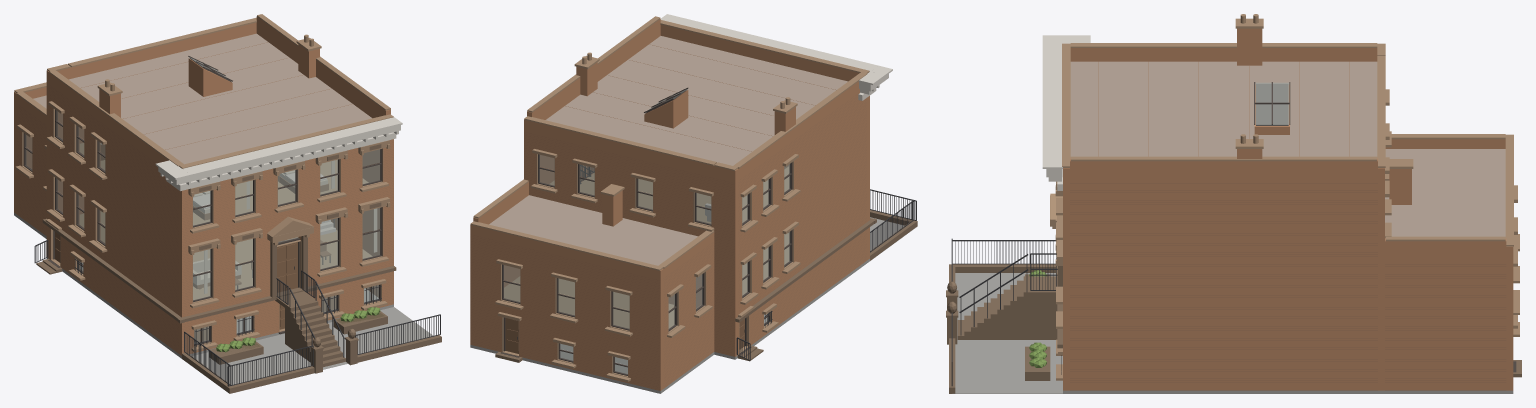
Rendered from pilot-brownstone-end-rowhouse-clay-v006.glb.
The picture shows the model from 3 angles, left to right: view 1: azimuth 30°, elevation 25°; view 2: azimuth 150°, elevation 25°; view 3: azimuth 270°, elevation 25°; orthographic projection. The views are drawn at different scales.
Parts seen in each view (by area): view 1: CLAY_WALL, CLAY_ROOF, CLAY_SAND, CLAY_STONE, CLAY_GLASS, CLAY_PALE, CLAY_FOUNDATION, CLAY_HARDWARE, CLAY_JOINT, CLAY_TRIM, CLAY_FLOOR, CLAY_TIMBER (+2 smaller); view 2: CLAY_WALL, CLAY_ROOF, CLAY_SAND, CLAY_JOINT, CLAY_GLASS, CLAY_FLOOR, CLAY_TRIM, CLAY_PALE, CLAY_FOUNDATION, CLAY_STONE, CLAY_HARDWARE, CLAY_TIMBER; view 3: CLAY_WALL, CLAY_ROOF, CLAY_JOINT, CLAY_SAND, CLAY_FOUNDATION, CLAY_STONE, CLAY_PALE, CLAY_HARDWARE, CLAY_TRIM, CLAY_GLASS, CLAY_PLANTING.
Part boxes in pixels (x1,y1,x2,y2): CLAY_WALL: [14, 16, 393, 355]; CLAY_ROOF: [33, 33, 371, 164]; CLAY_SAND: [14, 14, 393, 351]; CLAY_STONE: [36, 144, 441, 393]; CLAY_GLASS: [26, 57, 380, 343]; CLAY_PALE: [100, 117, 402, 234]; CLAY_FOUNDATION: [14, 213, 433, 392]; CLAY_HARDWARE: [34, 219, 440, 386]; CLAY_JOINT: [17, 42, 393, 351]; CLAY_TRIM: [23, 56, 381, 345]; CLAY_FLOOR: [79, 143, 372, 299]; CLAY_TIMBER: [55, 144, 336, 342]; CLAY_WALL: [470, 19, 869, 390]; CLAY_ROOF: [489, 36, 847, 265]; CLAY_SAND: [470, 16, 869, 381]; CLAY_JOINT: [470, 44, 866, 389]; CLAY_GLASS: [504, 89, 789, 374]; CLAY_FLOOR: [504, 166, 788, 328]; CLAY_TRIM: [500, 87, 792, 375]; CLAY_PALE: [660, 14, 892, 221]; CLAY_FOUNDATION: [470, 217, 915, 393]; CLAY_STONE: [495, 210, 917, 362]; CLAY_HARDWARE: [517, 165, 916, 360]; CLAY_TIMBER: [505, 165, 788, 353]; CLAY_WALL: [1063, 28, 1513, 390]; CLAY_ROOF: [1070, 61, 1505, 236]; CLAY_JOINT: [1070, 62, 1505, 390]; CLAY_SAND: [1050, 14, 1519, 380]; CLAY_FOUNDATION: [952, 273, 1513, 393]; CLAY_STONE: [946, 181, 1521, 393]; CLAY_PALE: [1042, 35, 1090, 190]; CLAY_HARDWARE: [951, 238, 1061, 386]; CLAY_TRIM: [1254, 82, 1516, 372]; CLAY_GLASS: [1255, 82, 1288, 125]; CLAY_PLANTING: [1029, 270, 1046, 367].
Size of the model in its own units: 12.42 by 11.37 by 22.88.
